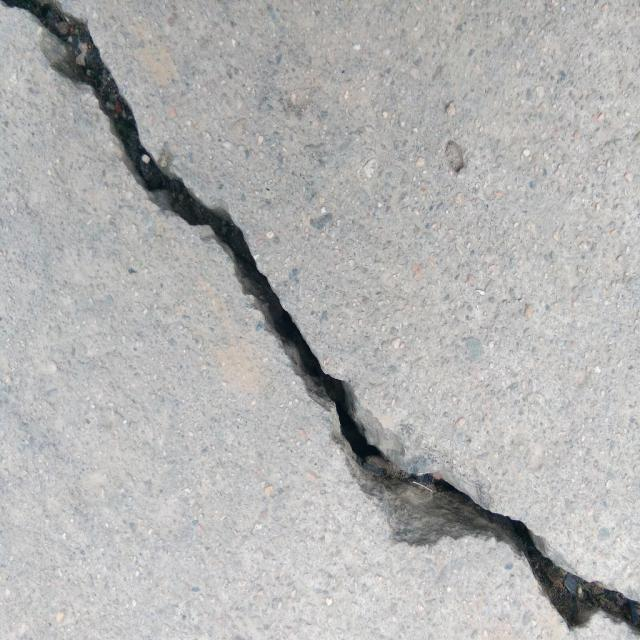cracks: (234, 288, 640, 640), (4, 0, 268, 327)
